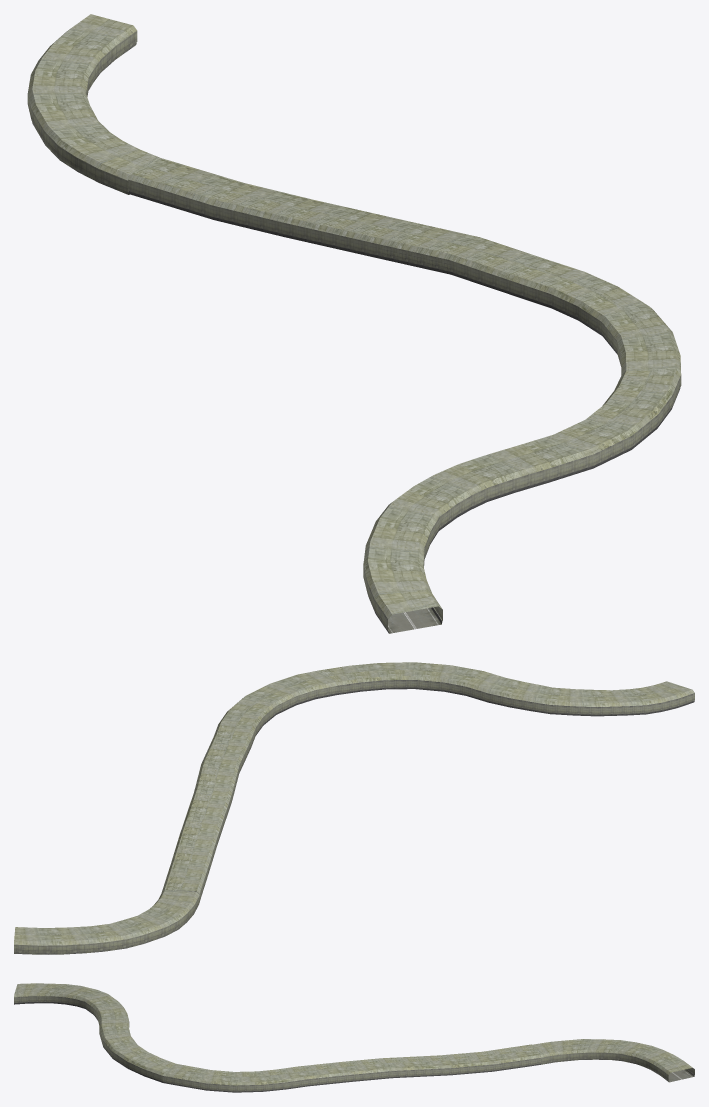
3 views of the same model, one above another, from view 1: azimuth 30°, elevation 25°; view 2: azimuth 150°, elevation 25°; view 3: azimuth 270°, elevation 25° (orthographic). The views are drawn at different scales.
Parts seen in each view (by area): view 1: SM_HK_00_04.002; view 2: SM_HK_00_04.002; view 3: SM_HK_00_04.002.
Boxes of the visible parts, x1=… form: SM_HK_00_04.002: x1=27, y1=14, x2=681, y2=633; SM_HK_00_04.002: x1=14, y1=662, x2=694, y2=954; SM_HK_00_04.002: x1=14, y1=983, x2=694, y2=1092.
Size of the model in its own units: 18308 by 1913 by 44830.
